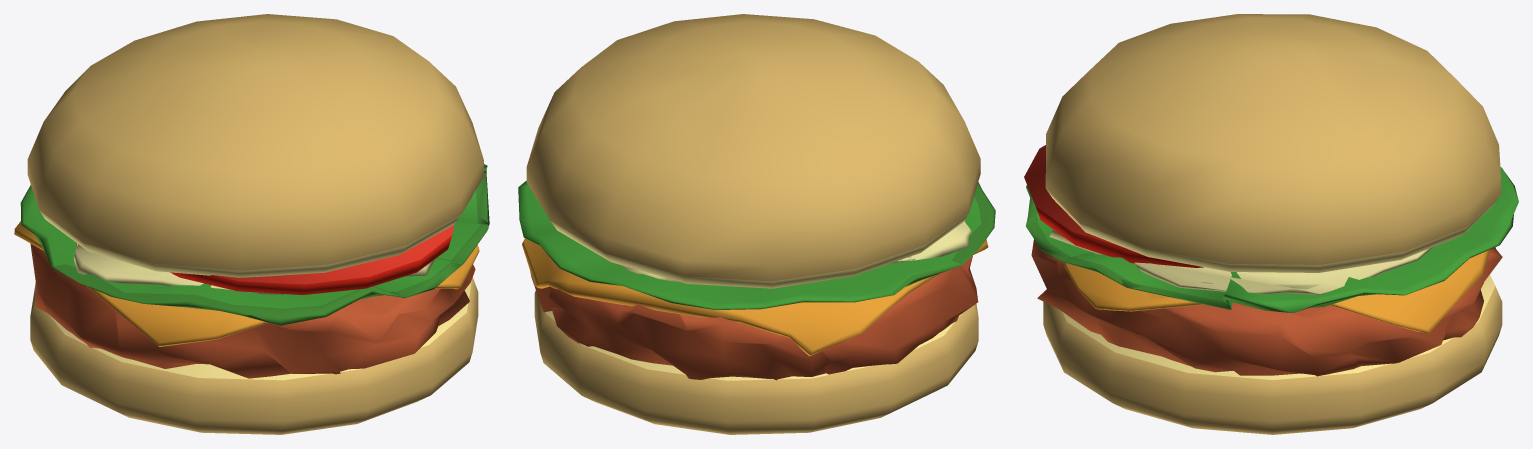
File: Burger 1.fbx
The picture shows the model from 3 angles, left to right: view 1: azimuth 30°, elevation 25°; view 2: azimuth 150°, elevation 25°; view 3: azimuth 270°, elevation 25°; orthographic projection. The views are drawn at different scales.
Parts seen in each view (by area): view 1: burger; view 2: burger; view 3: burger.
Boxes of the visible parts, x1,y1,x2,y2 form: burger: [14, 14, 489, 434]; burger: [518, 14, 995, 434]; burger: [1024, 14, 1518, 434].
Size of the model in its own units: 0.7097 by 0.4786 by 0.7116.
